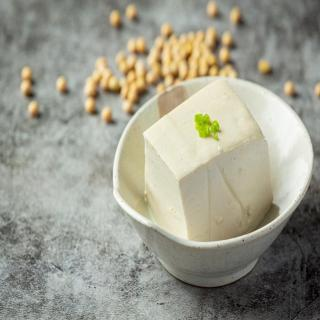Tahu: (126, 71, 286, 259)
